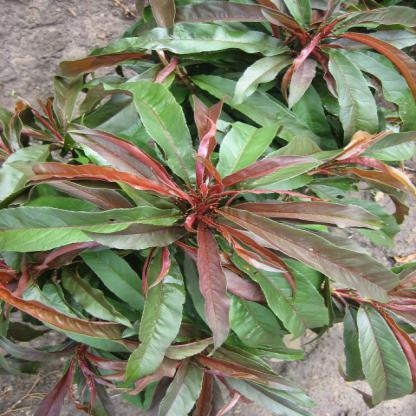Peach leaf: (223, 206, 401, 304), (89, 79, 197, 188), (211, 248, 331, 344), (1, 203, 182, 259), (120, 256, 190, 389), (86, 20, 308, 61), (349, 300, 415, 413), (200, 121, 291, 190), (215, 291, 304, 360), (325, 42, 381, 146)
